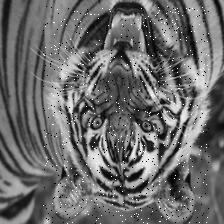tiger: (43, 6, 209, 224)
